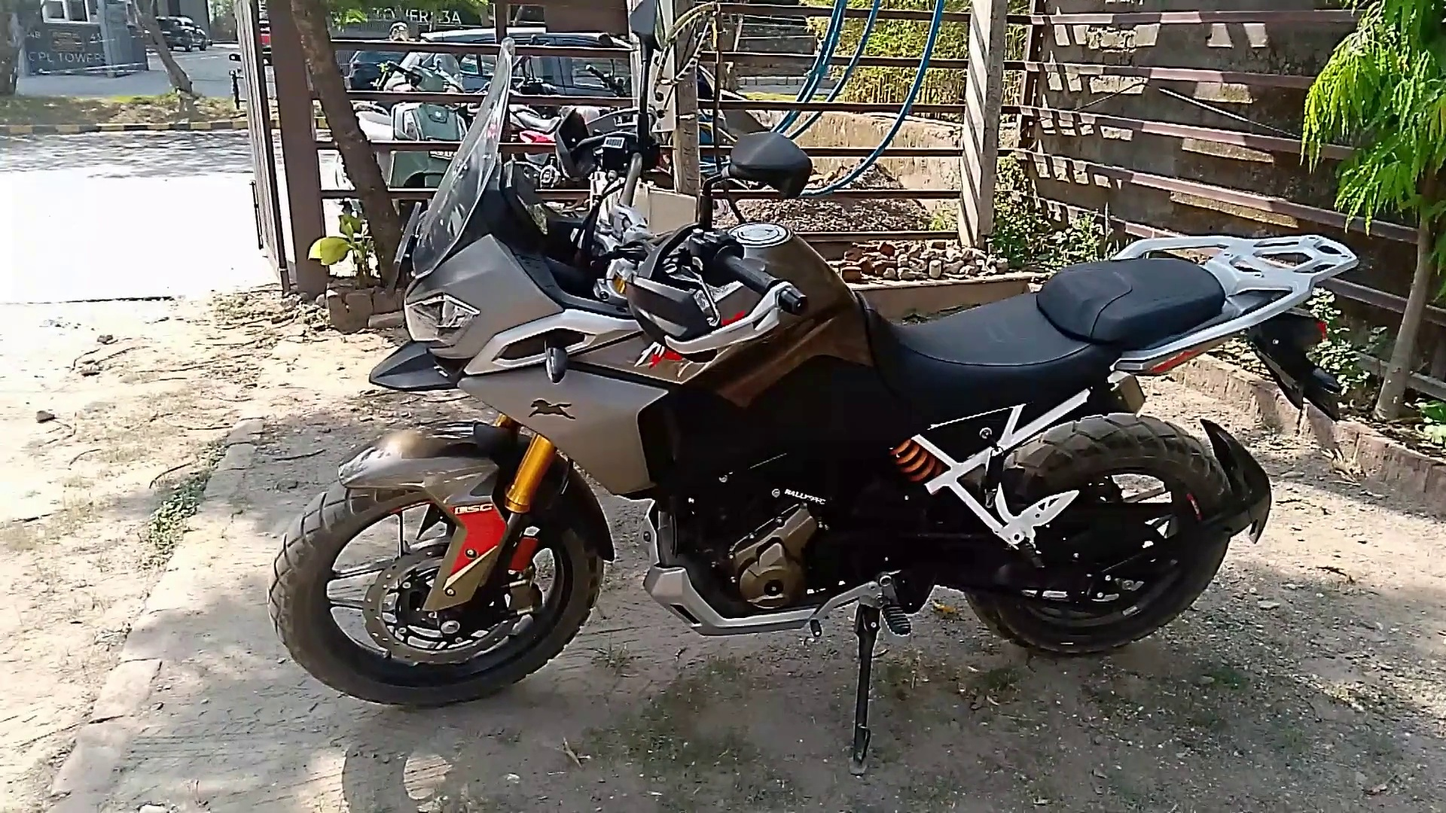engine-casing-left: (711, 484, 834, 612)
side-stand: (848, 603, 881, 775)
